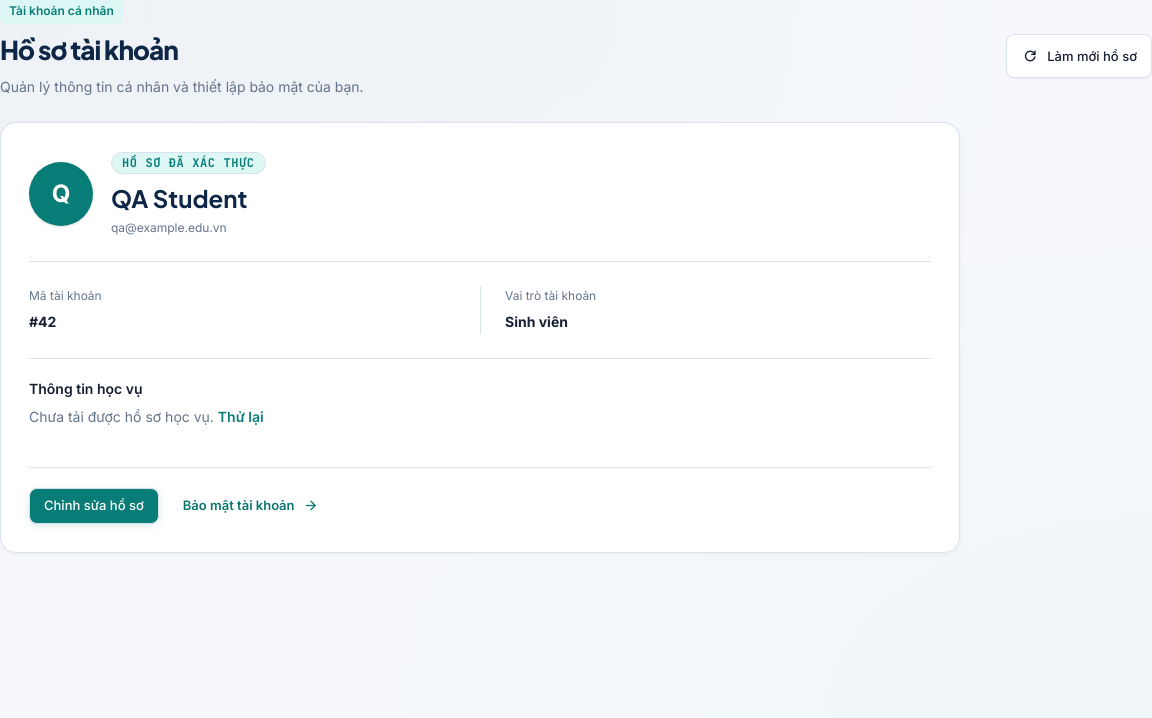
Test case: ProfilePage › explains a server validation response 400 without blaming connectivity
Click the button "Chỉnh sửa hồ sơ": (94, 506) [29, 488, 159, 524]
(page scrolled)
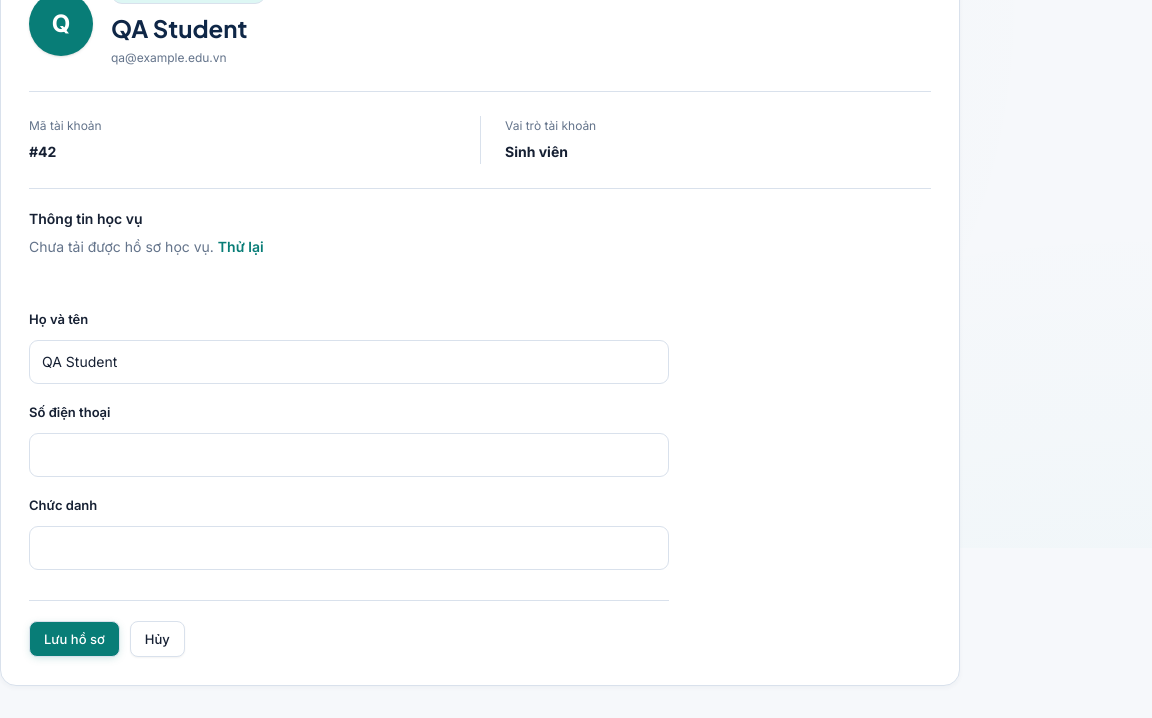
Click the button "Lưu hồ sơ": (74, 639) [29, 621, 120, 657]
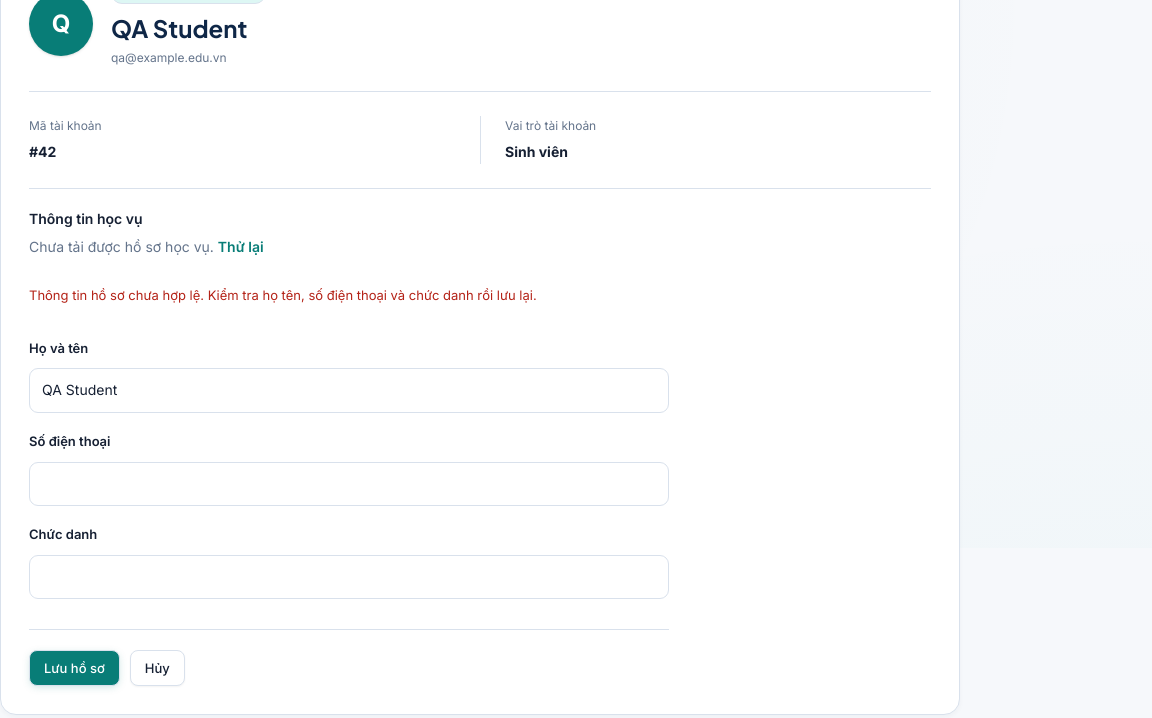
Now the field labelled "Họ và tên" is shown, box [29, 368, 669, 413]
Now the message shows "Thông tin hồ sơ chưa hợp lệ", box [29, 287, 537, 303]
